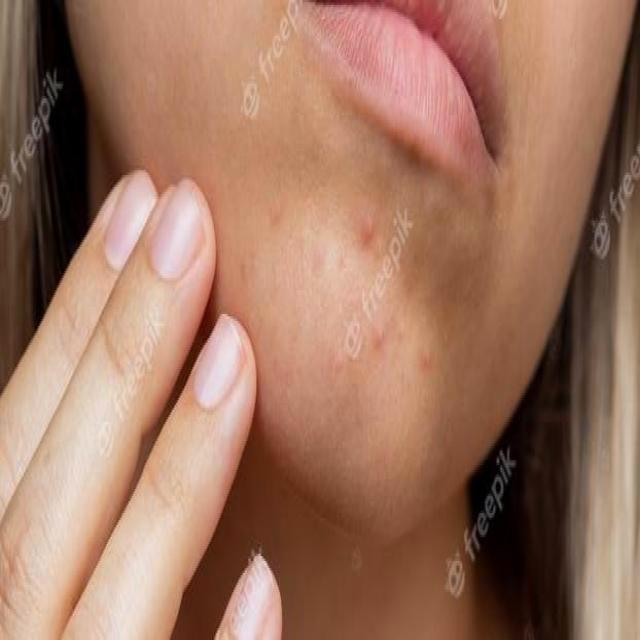Pimples: (363, 202, 376, 244), (422, 330, 434, 370)
